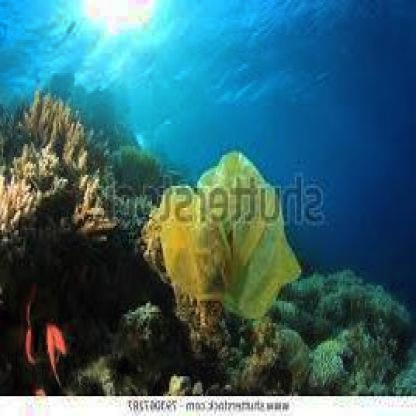pbag: (155, 150, 301, 321)
